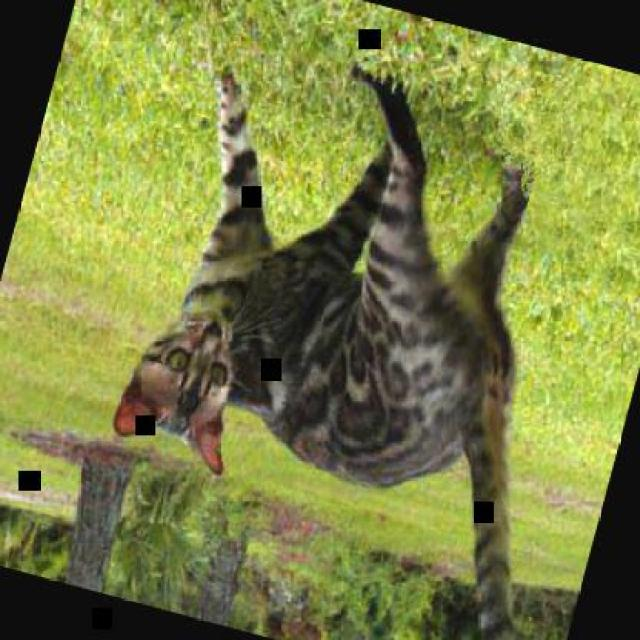cat: (52, 17, 638, 638)
